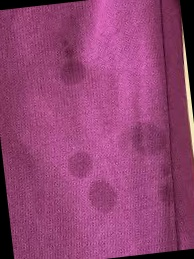oil: (126, 127, 168, 158), (53, 46, 85, 85), (85, 181, 119, 217), (148, 159, 173, 206), (71, 149, 92, 176)
